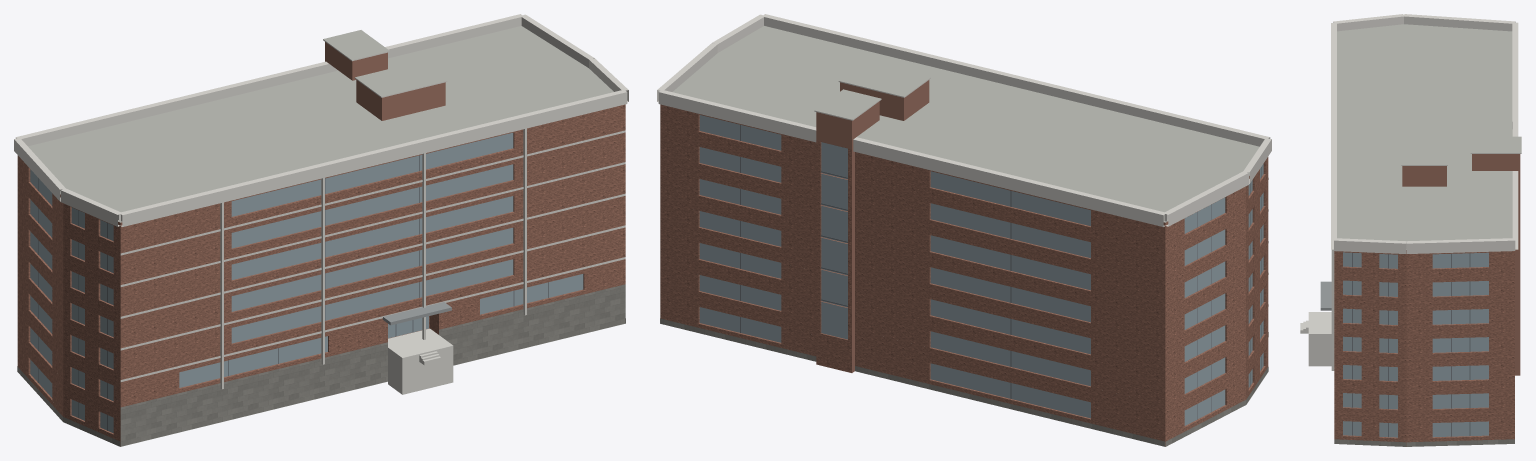
3 renders of one model, left to right at view 1: azimuth 30°, elevation 25°; view 2: azimuth 150°, elevation 25°; view 3: azimuth 270°, elevation 25°, orthographic. The views are drawn at different scales.
Visible parts, largest first — view 1: hum1__wall, hum1__roof, hum1__glass, hum1__trim, hum1__base, hum1__entranceStair, hum1__wall2, hum1__canopy, hum1__frame; view 2: hum1__wall, hum1__roof, hum1__glass, hum1__trim, hum1__wall2, hum1__base, hum1__frame; view 3: hum1__roof, hum1__wall, hum1__glass, hum1__trim, hum1__wall2, hum1__entranceStair, hum1__base, hum1__frame, hum1__canopy.
Boxes of the visible parts, x1=… form: hum1__wall: x1=17, y1=104, x2=625, y2=446; hum1__roof: x1=28, y1=26, x2=623, y2=446; hum1__glass: x1=30, y1=132, x2=583, y2=432; hum1__trim: x1=14, y1=14, x2=628, y2=389; hum1__base: x1=17, y1=284, x2=625, y2=446; hum1__entranceStair: x1=388, y1=328, x2=453, y2=394; hum1__wall2: x1=325, y1=42, x2=445, y2=120; hum1__canopy: x1=382, y1=302, x2=451, y2=325; hum1__frame: x1=38, y1=155, x2=548, y2=430; hum1__wall: x1=660, y1=104, x2=1268, y2=446; hum1__roof: x1=672, y1=26, x2=1259, y2=222; hum1__glass: x1=699, y1=115, x2=1263, y2=425; hum1__trim: x1=657, y1=14, x2=1271, y2=306; hum1__wall2: x1=816, y1=80, x2=929, y2=372; hum1__base: x1=660, y1=318, x2=1268, y2=446; hum1__frame: x1=740, y1=125, x2=1261, y2=419; hum1__roof: x1=1337, y1=24, x2=1521, y2=249; hum1__wall: x1=1334, y1=250, x2=1514, y2=446; hum1__glass: x1=1343, y1=252, x2=1488, y2=437; hum1__trim: x1=1331, y1=14, x2=1521, y2=370; hum1__wall2: x1=1402, y1=154, x2=1520, y2=375; hum1__entranceStair: x1=1300, y1=312, x2=1331, y2=366; hum1__base: x1=1334, y1=439, x2=1514, y2=446; hum1__frame: x1=1352, y1=252, x2=1470, y2=437; hum1__canopy: x1=1320, y1=281, x2=1331, y2=310.
Size of the model in its own units: 63.06 by 28.89 by 25.66.
10 materials, 2 textured.
